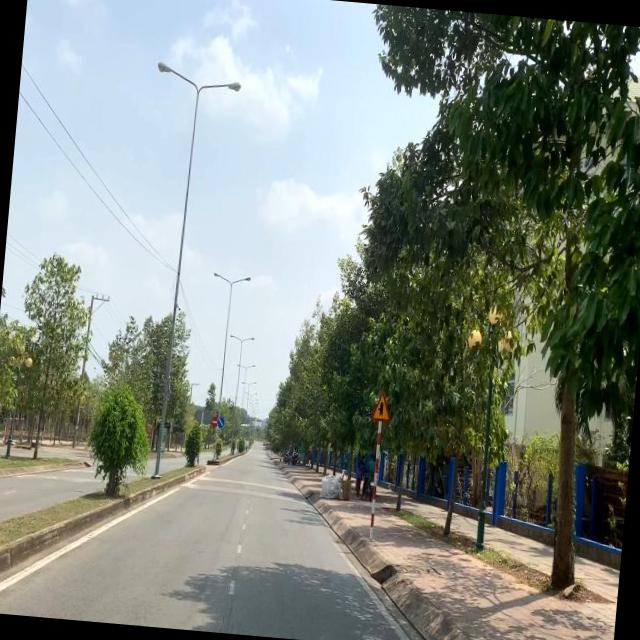P-102: (210, 412, 218, 429)
R-302a: (217, 414, 226, 430)
W-207c: (368, 388, 394, 426)
